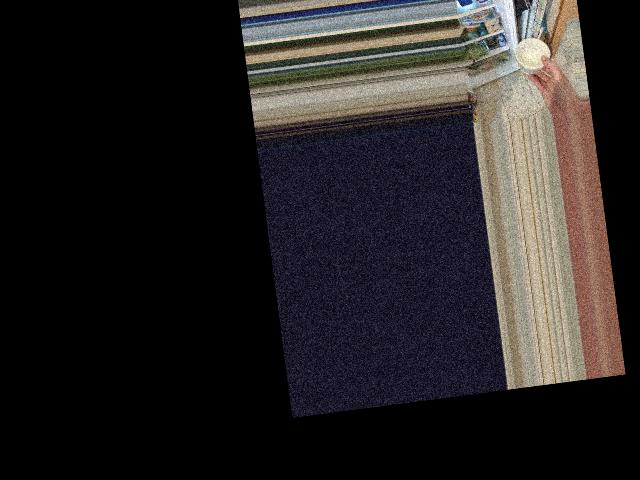cotage: (514, 37, 549, 74)
